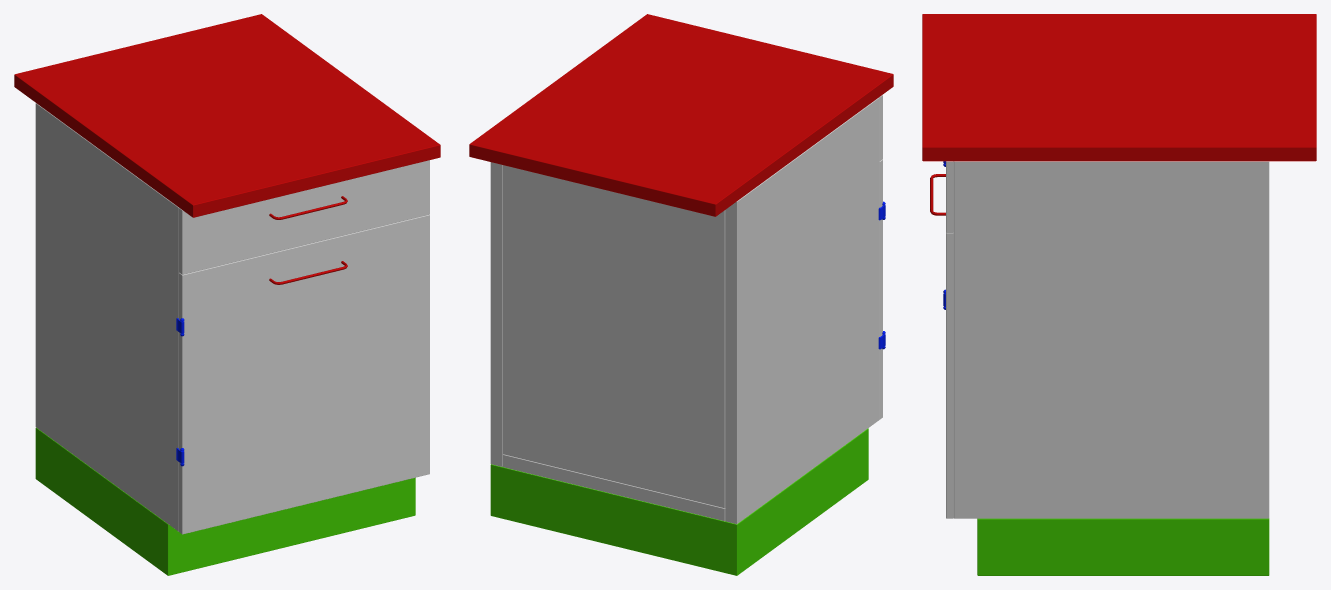
Rendered from Bench01b.fbx.
3 views of the same model, side by side, from view 1: azimuth 30°, elevation 25°; view 2: azimuth 150°, elevation 25°; view 3: azimuth 270°, elevation 25° (orthographic). The views are drawn at different scales.
Parts seen in each view (by area): view 1: Bench01b, Drawer02, Drawer01; view 2: Bench01b, Drawer02; view 3: Bench01b, Drawer02, Drawer01.
Boxes of the visible parts, bbox=[...] form: Bench01b: bbox=[14, 14, 440, 575]; Drawer02: bbox=[179, 214, 429, 534]; Drawer01: bbox=[179, 160, 429, 274]; Bench01b: bbox=[469, 14, 893, 575]; Drawer02: bbox=[879, 159, 882, 419]; Bench01b: bbox=[922, 14, 1316, 575]; Drawer02: bbox=[930, 174, 953, 518]; Drawer01: bbox=[946, 161, 953, 232].
Bounding box in the file's own units: 50.35 × 62.5 × 75.
